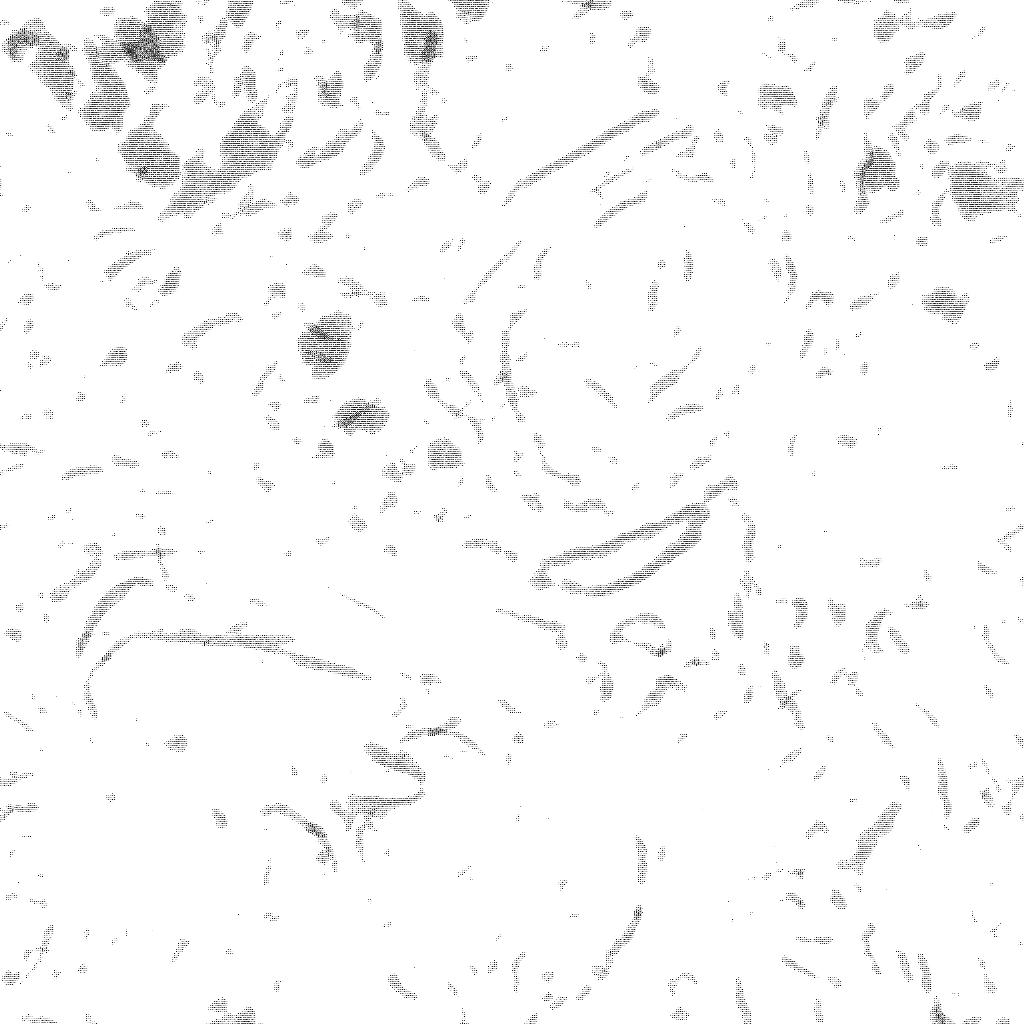axone: (1, 8, 79, 133), (106, 1, 192, 88), (77, 30, 136, 144), (213, 99, 285, 183), (946, 146, 1022, 225), (843, 129, 912, 215), (112, 115, 180, 190), (298, 304, 359, 380), (394, 1, 451, 67), (324, 391, 393, 435)
